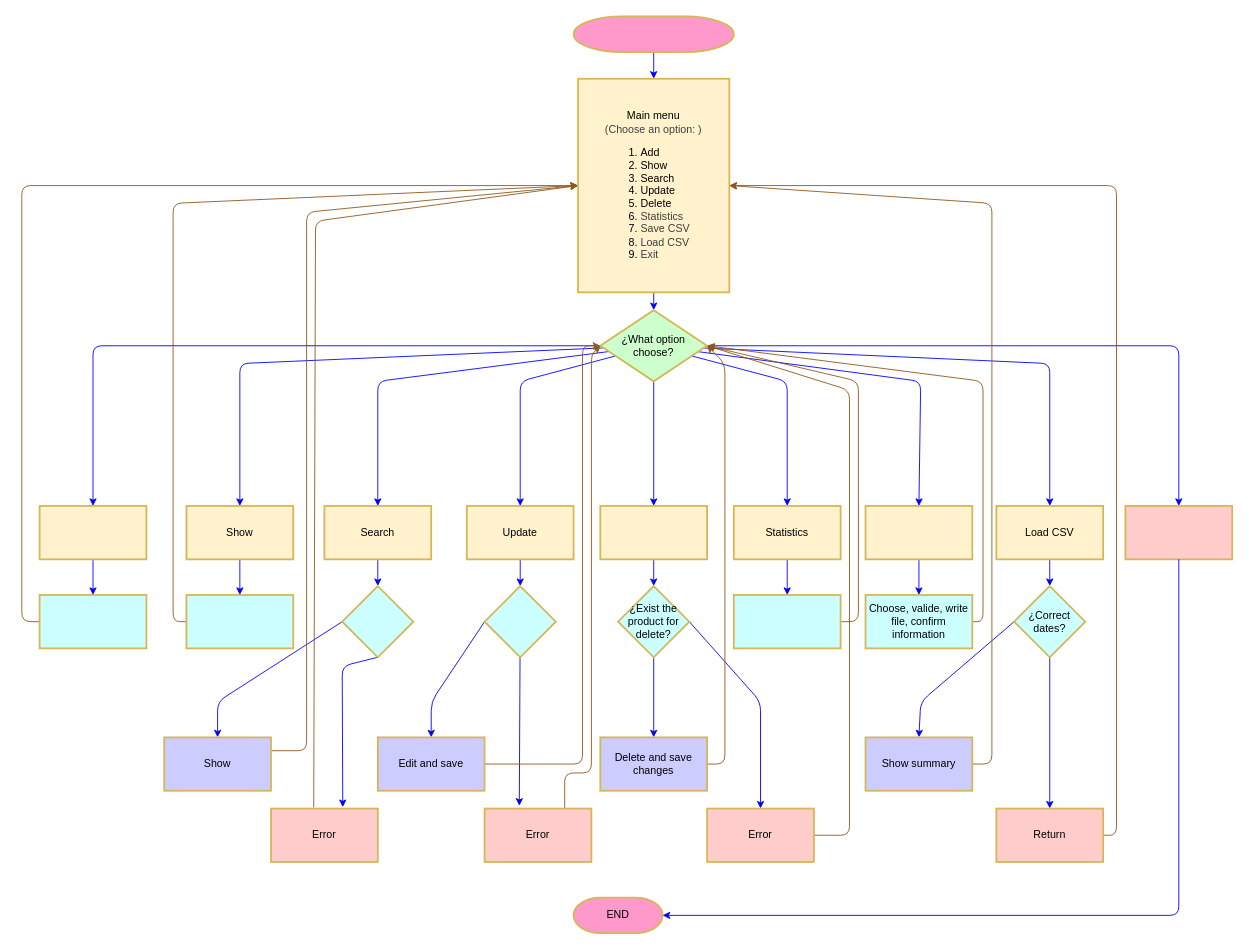
The diagram is 1249 pixels wide and 949 high, and some of its shapes have lost their labels. Each missing label, with the centre of its shape:
Add: [92,532]
Ask about add product, validate, save: [92,621]
Calculate all: [786,621]
Delete: [653,532]
Exit: [1178,532]
Save CSV: [918,532]
Show products add: [239,621]
START: [653,34]
¿Exist the product?: [519,621]
¿Product find?: [377,621]
